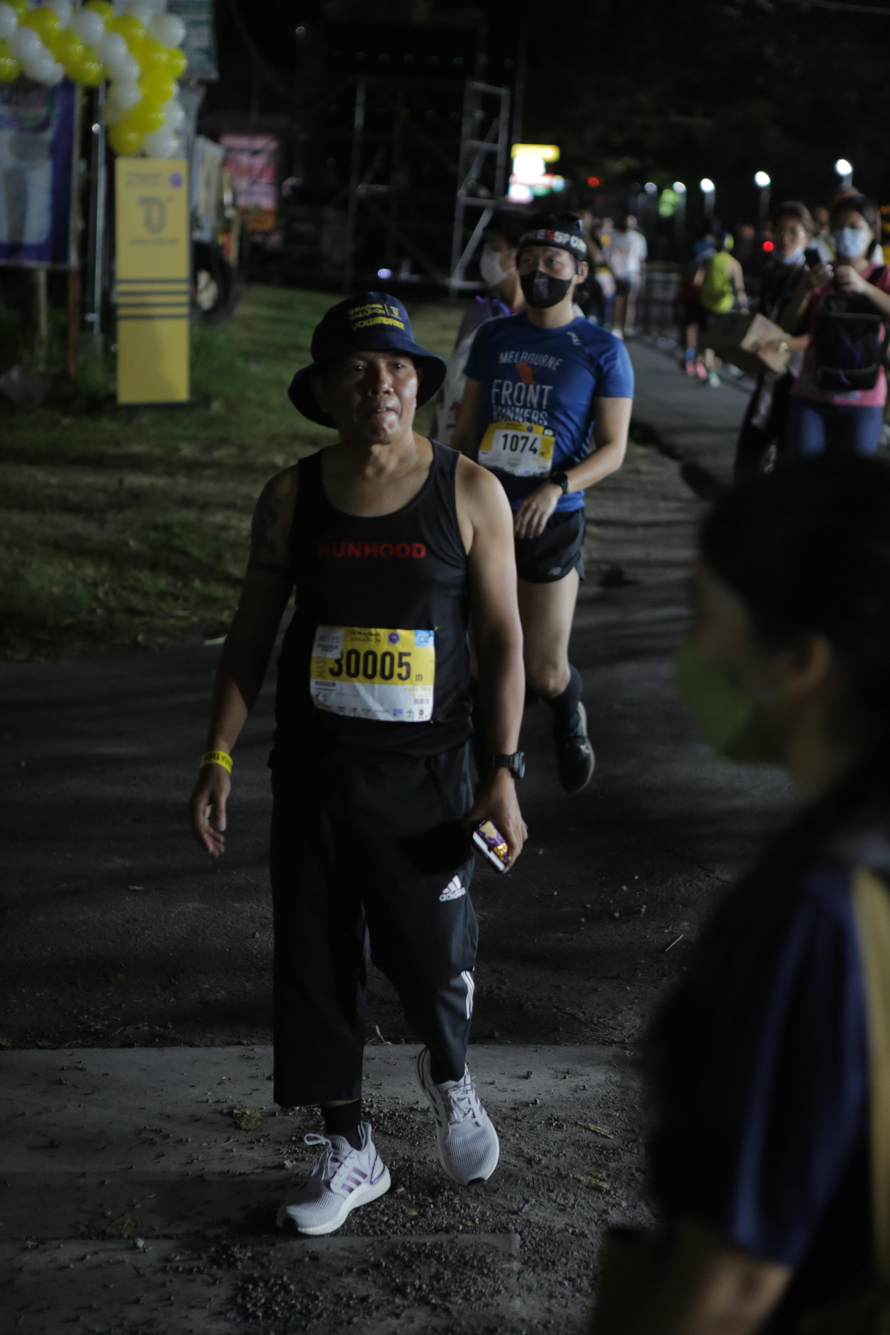bib: (312, 625, 435, 724), (479, 422, 554, 477)
